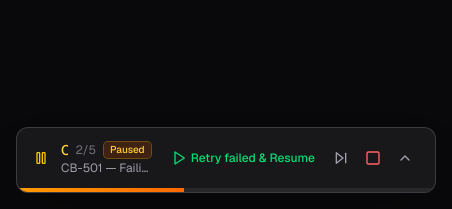
AutoPilotFloatingBar › retry button for failed tasks › shows a toast message after successful retry
Click the button titled "Expand queue": x=405, y=158 [391,144,419,172]
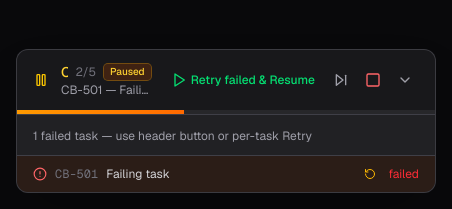
Click the button named "Retry CB-501": x=370, y=174 [360,164,380,184]
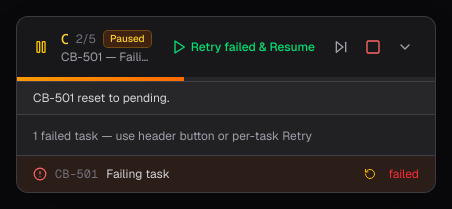
expect the text "CB-501 reset to pending." is shown: met, box [17,81,435,114]
